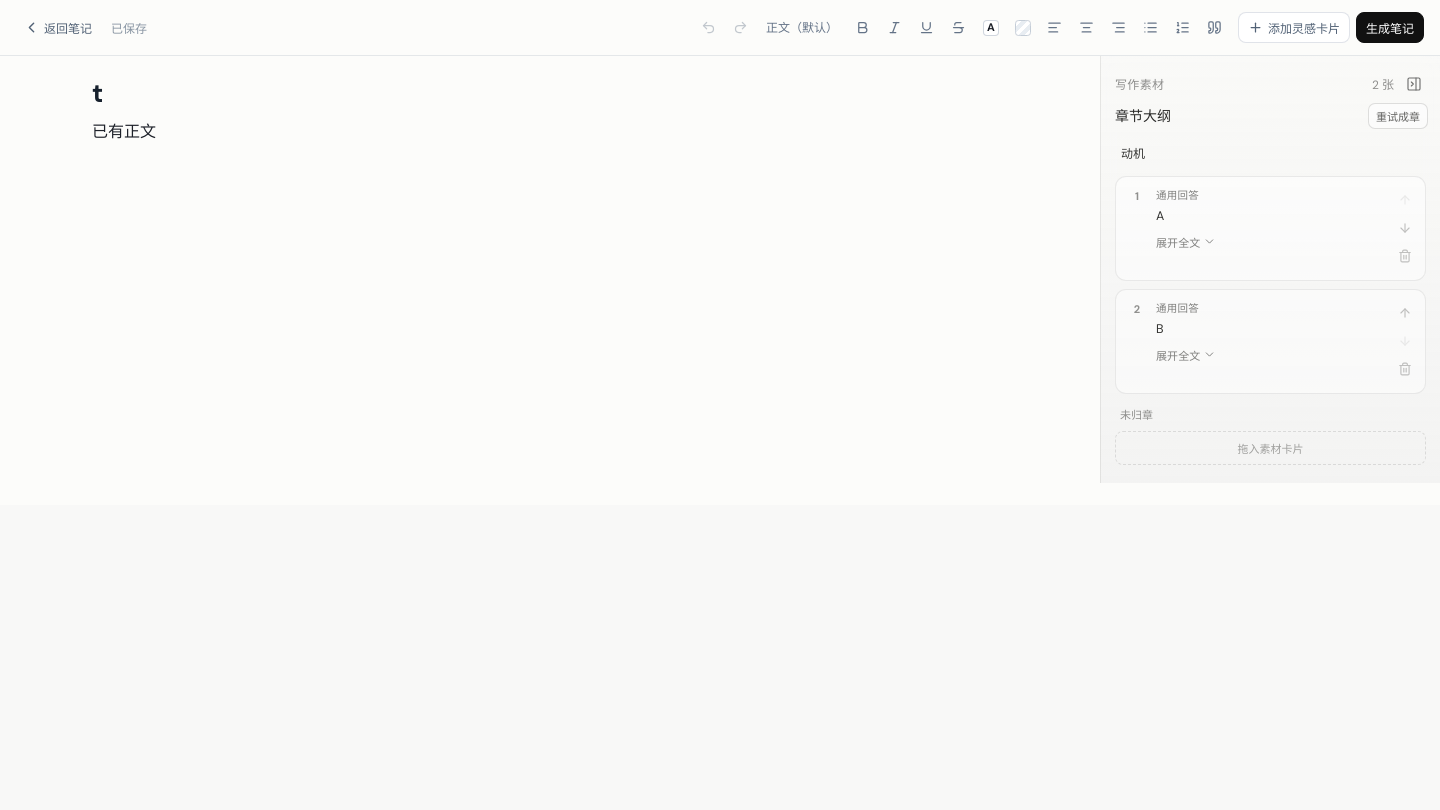
Test: NoteEditor retry outline confirmation › generates only after confirming the retry dialog
Click the button "重试成章" at point(1398, 116), box [1368,103,1428,129]
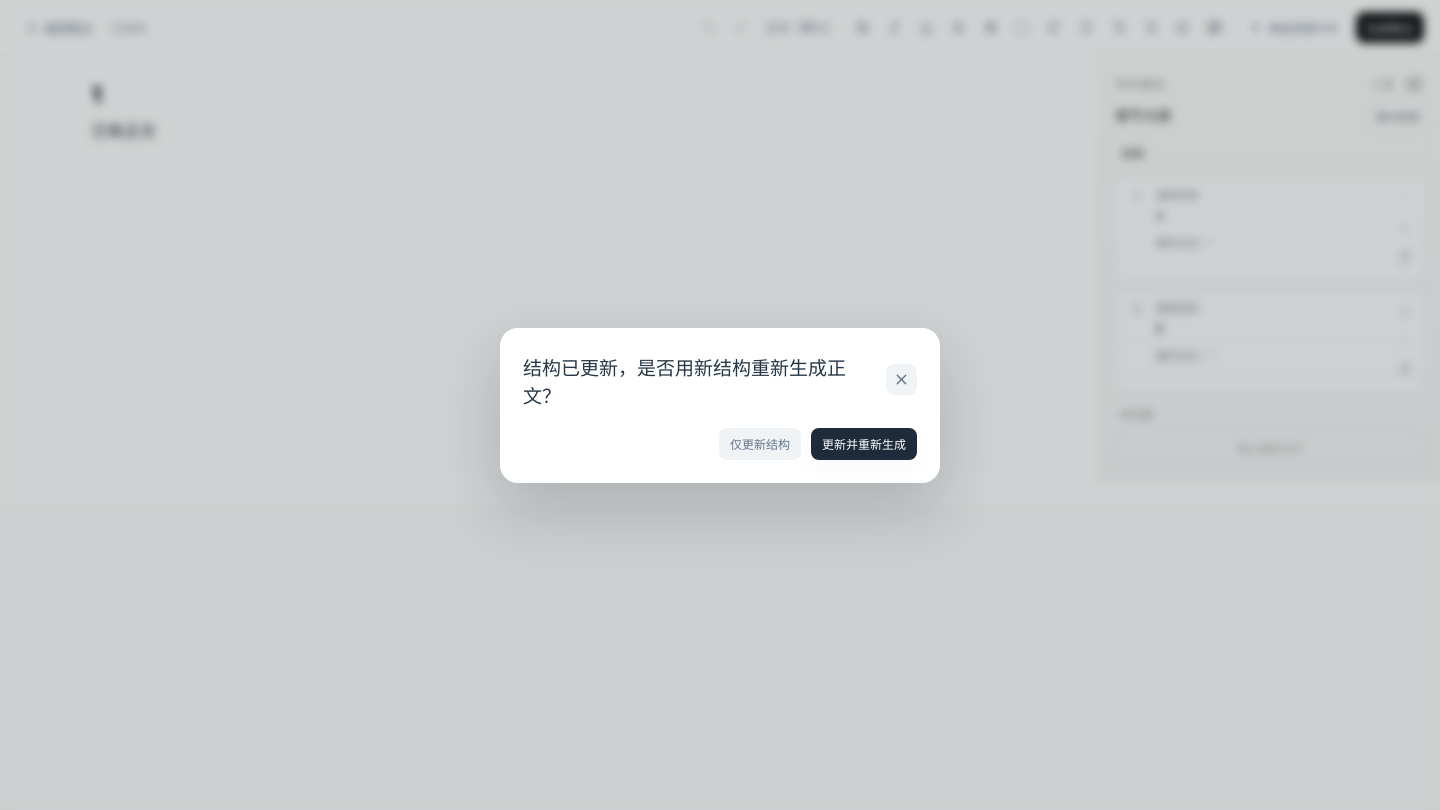
Click the button "更新并重新生成" at point(864, 444), box [811,428,917,460]
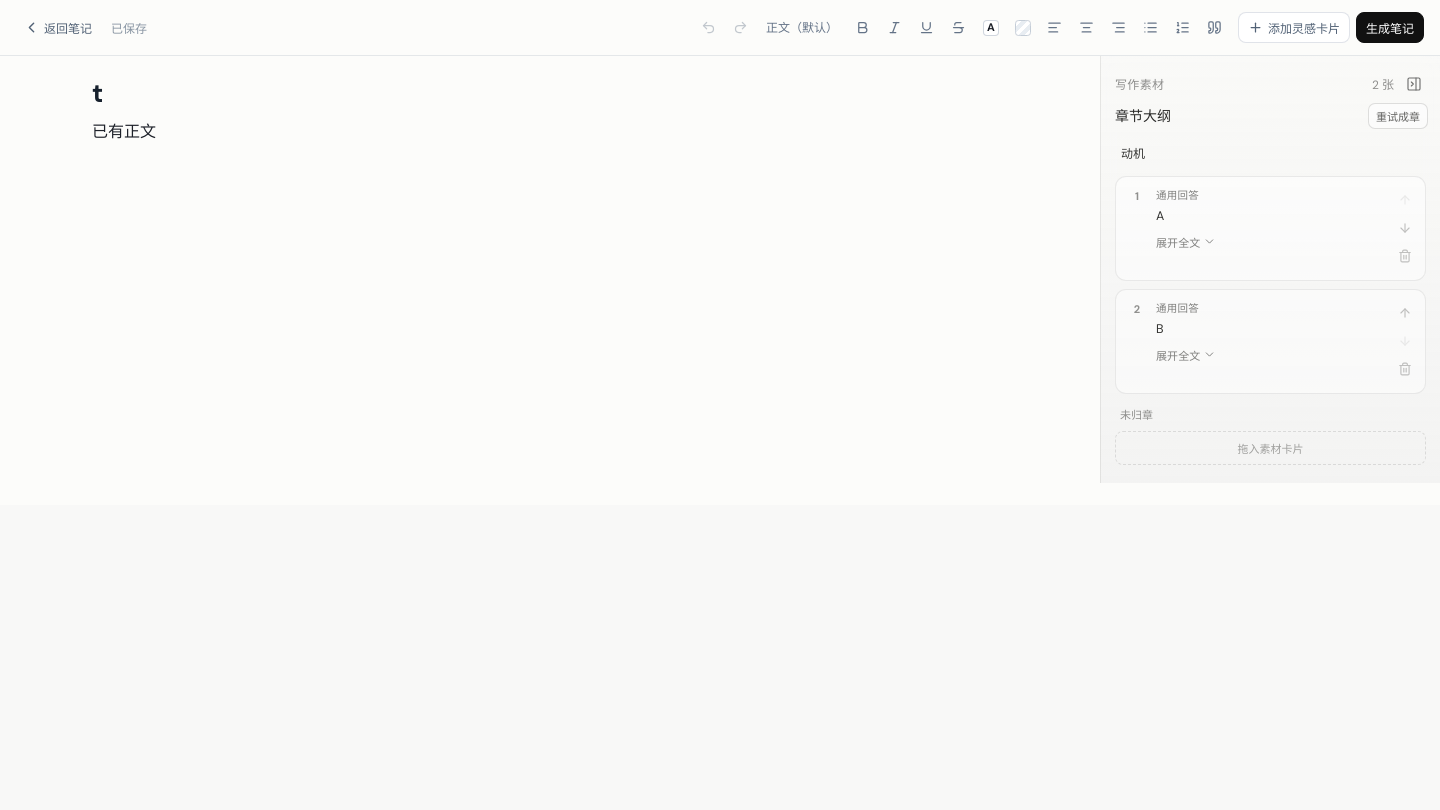
Expected: the heading "结构已更新，是否用新结构重新生成正文？" is gone
